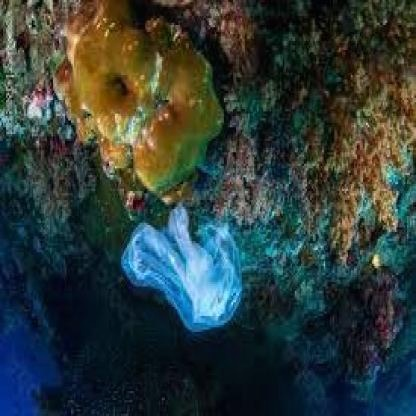pbag: (114, 202, 246, 341)
